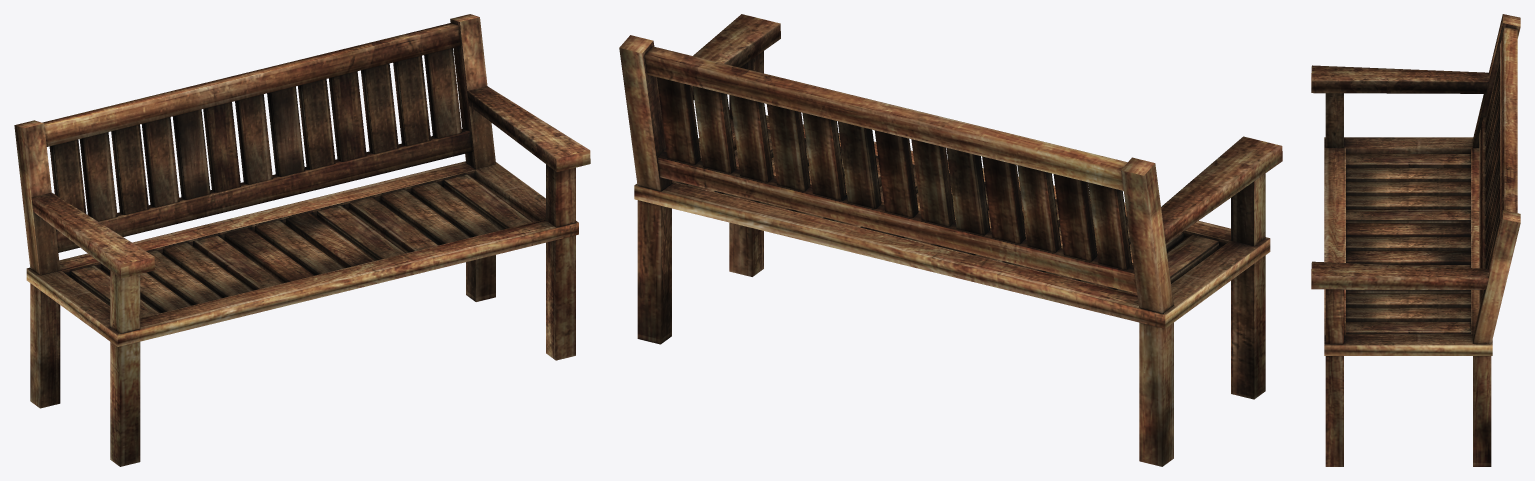
File: free_wooden_park_chair.glb
3 views of the same model, side by side, from view 1: azimuth 30°, elevation 25°; view 2: azimuth 150°, elevation 25°; view 3: azimuth 270°, elevation 25° (orthographic). The views are drawn at different scales.
Parts seen in each view (by area): view 1: ParkChair1; view 2: ParkChair1; view 3: ParkChair1.
Boxes of the visible parts, x1,y1,x2,y2 form: ParkChair1: (14, 14, 590, 466); ParkChair1: (619, 14, 1282, 466); ParkChair1: (1311, 14, 1520, 466).
Bounding box in the file's own units: 101 × 55.33 × 42.42.
Materials: 1 (1 with a texture image).
